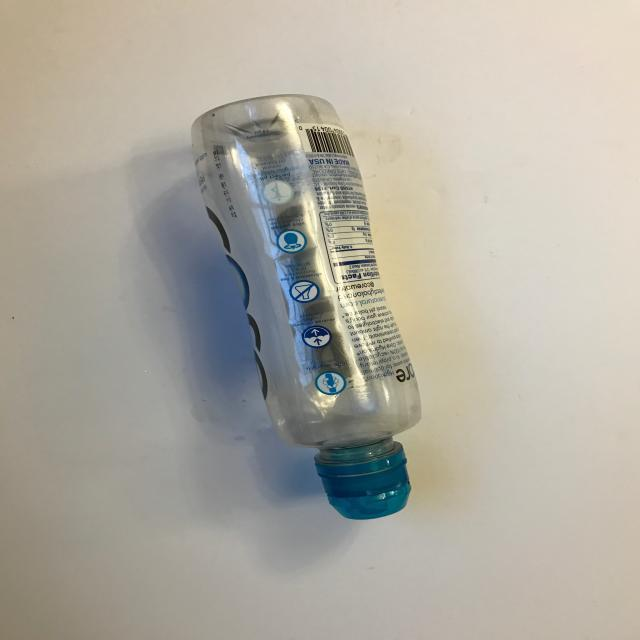plastic: (184, 85, 452, 532)
